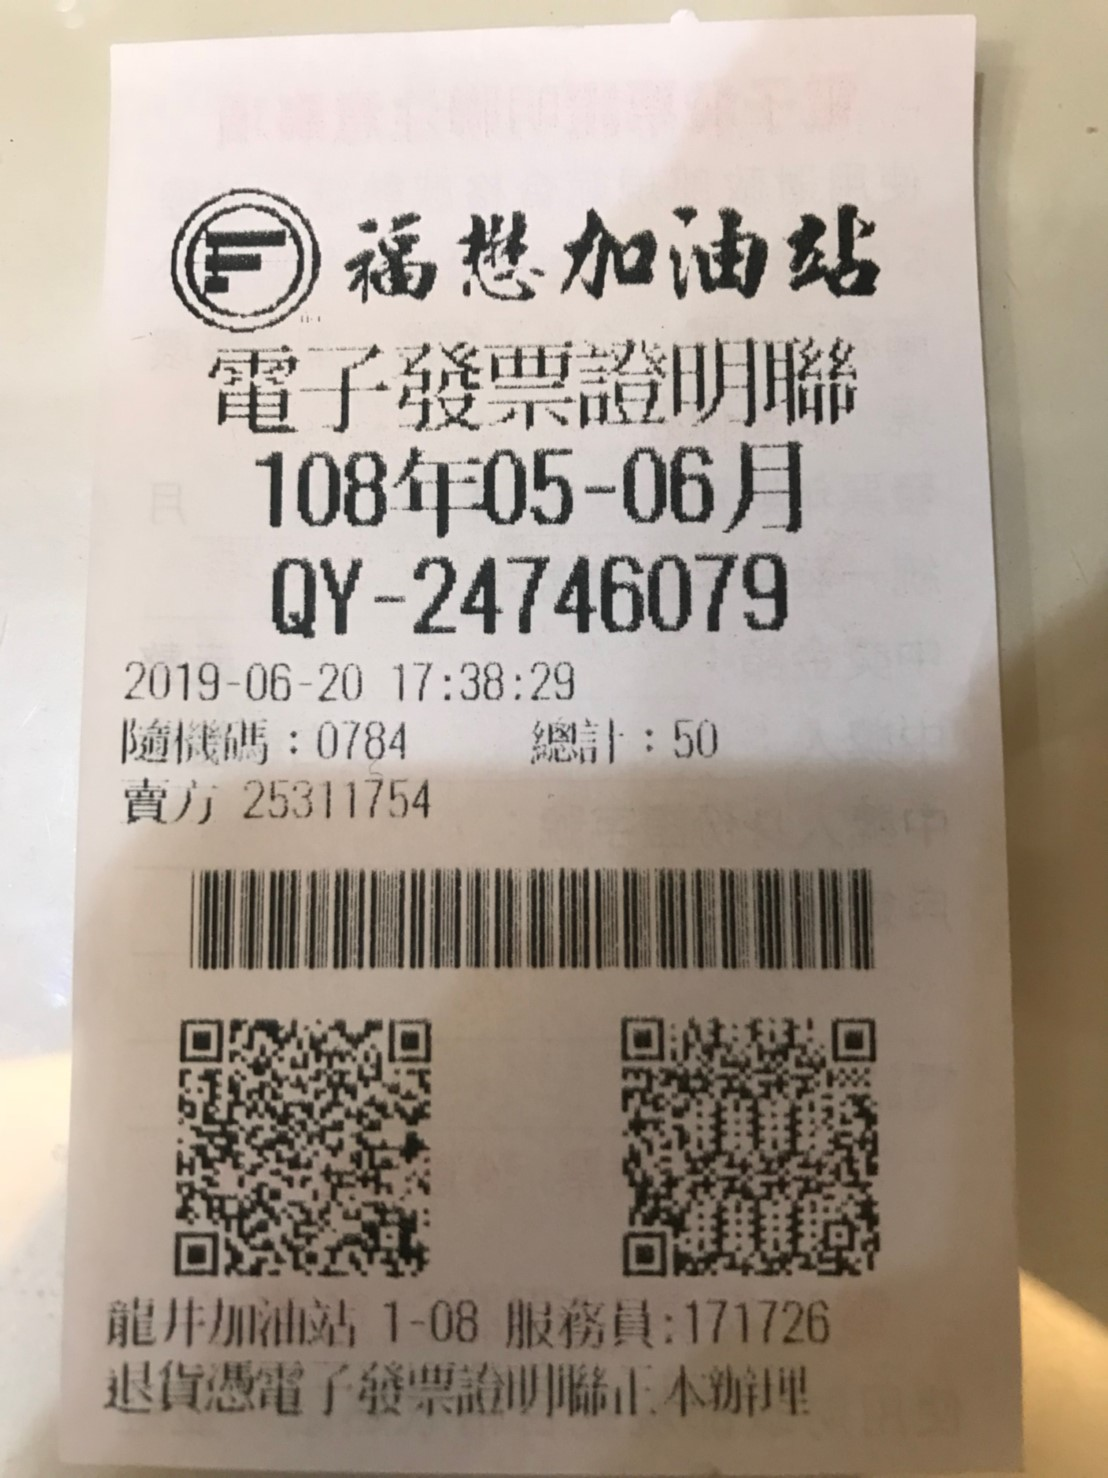Date_New: (249, 435, 814, 539)
Number_New: (406, 545, 795, 644)
